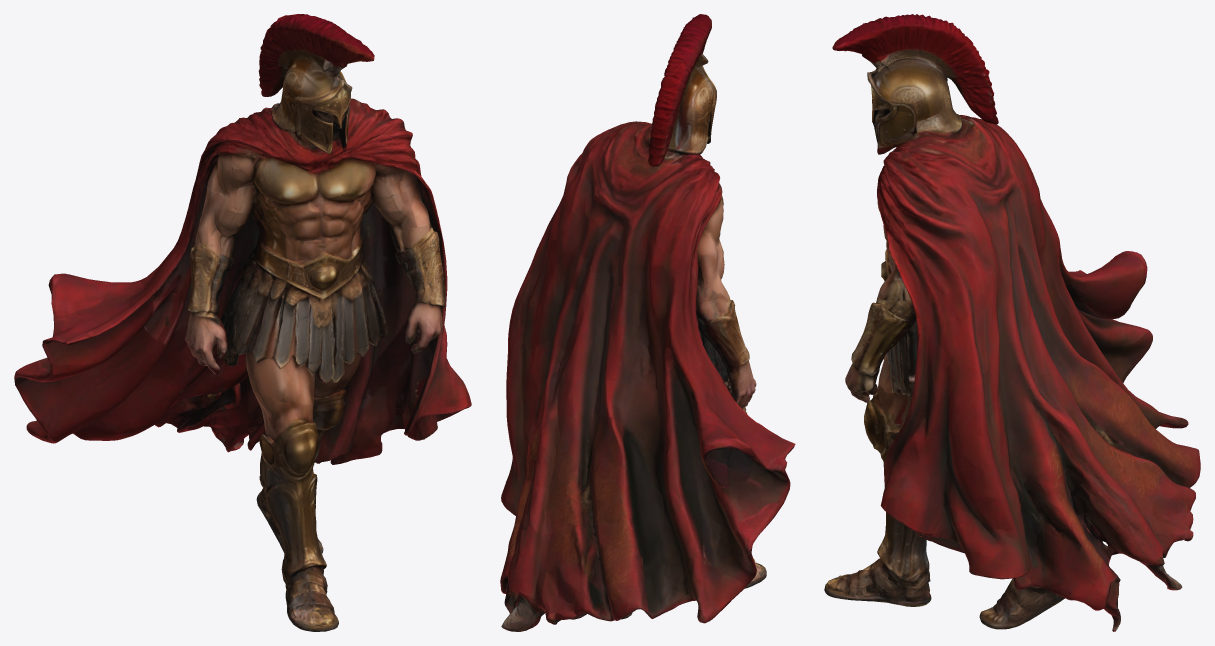
Rendered from hypaspist__spartan-red-cape.glb.
The picture shows the model from 3 angles, left to right: view 1: azimuth 30°, elevation 25°; view 2: azimuth 150°, elevation 25°; view 3: azimuth 270°, elevation 25°; orthographic projection. The views are drawn at different scales.
Size of the model in its own units: 1.17 by 1.9 by 1.11.
1 material, 1 textured.
